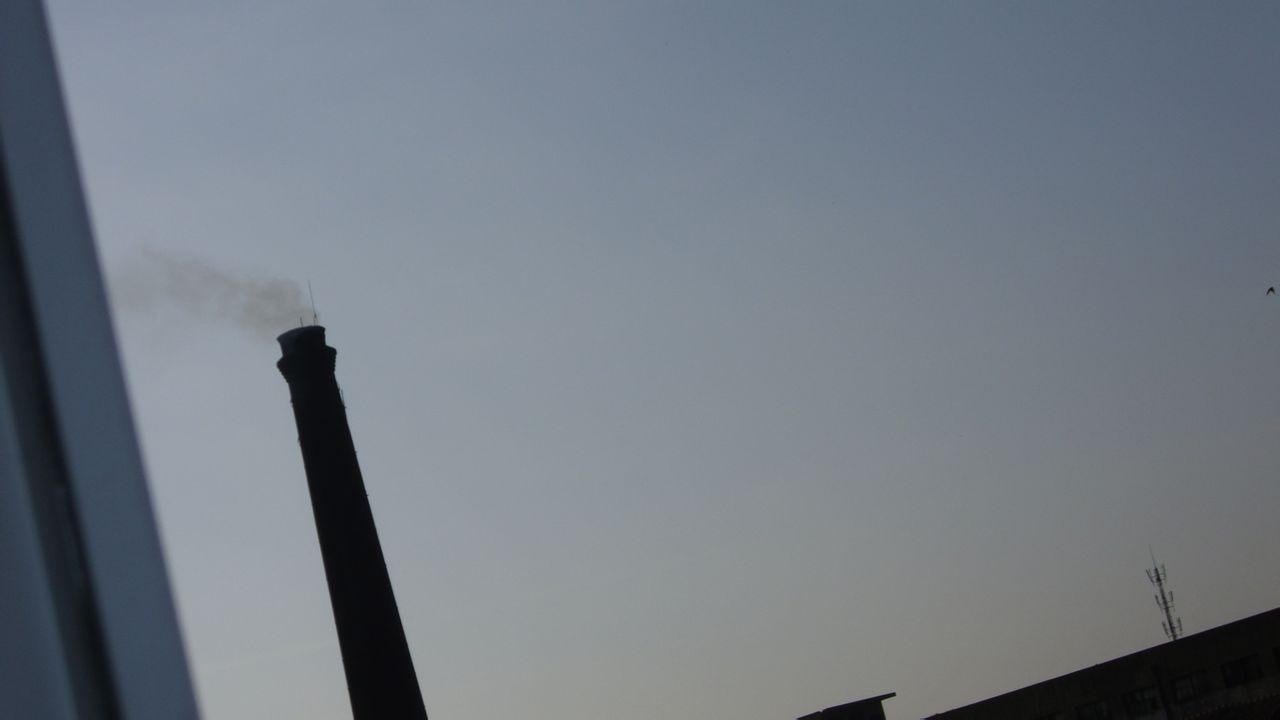dust: (138, 248, 326, 345)
